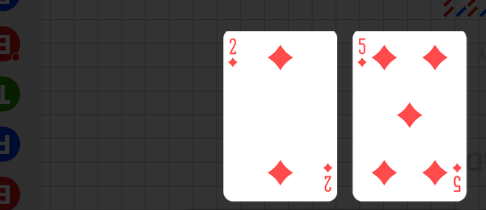2D: (227, 36, 239, 69)
9D: (356, 36, 368, 69)
